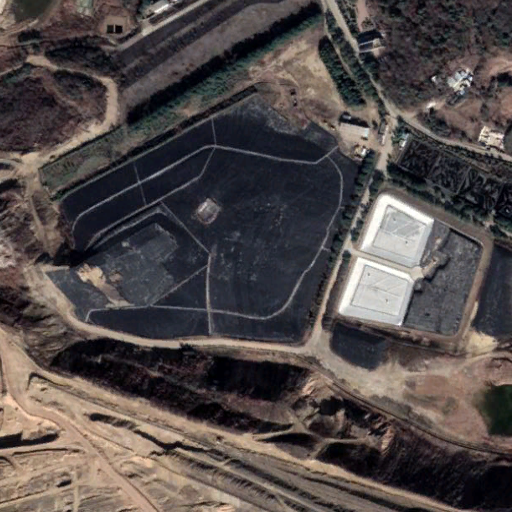lf: (36, 85, 378, 345), (337, 189, 482, 346)
